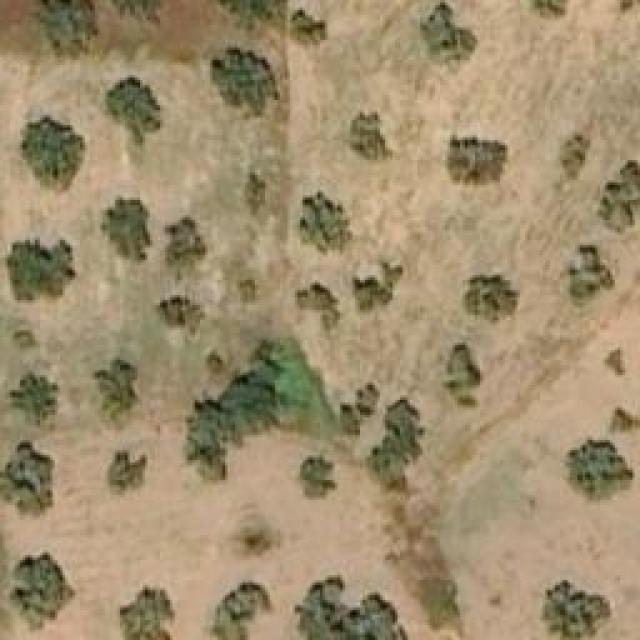Tree: (185, 370, 275, 480), (295, 577, 410, 640), (365, 397, 425, 495), (20, 117, 85, 195), (212, 48, 280, 121), (5, 238, 75, 301), (540, 580, 613, 640), (567, 438, 635, 501), (32, 0, 100, 60), (13, 552, 73, 620), (105, 75, 163, 145), (0, 440, 52, 515), (100, 198, 155, 263), (567, 245, 615, 318), (420, 3, 478, 63), (212, 580, 270, 640), (300, 193, 353, 253), (597, 159, 640, 232), (117, 587, 174, 640), (165, 217, 208, 285), (450, 133, 508, 183), (93, 360, 138, 423), (353, 258, 403, 313), (10, 373, 60, 426), (465, 273, 518, 323), (345, 113, 393, 166), (295, 282, 343, 330), (445, 345, 480, 408), (103, 450, 148, 498), (109, 0, 172, 32), (298, 458, 338, 501), (157, 298, 205, 331), (290, 10, 328, 50), (558, 133, 591, 178), (245, 173, 265, 216), (530, 0, 568, 20), (603, 348, 628, 378), (610, 408, 640, 433), (12, 330, 40, 353), (620, 0, 640, 30)
